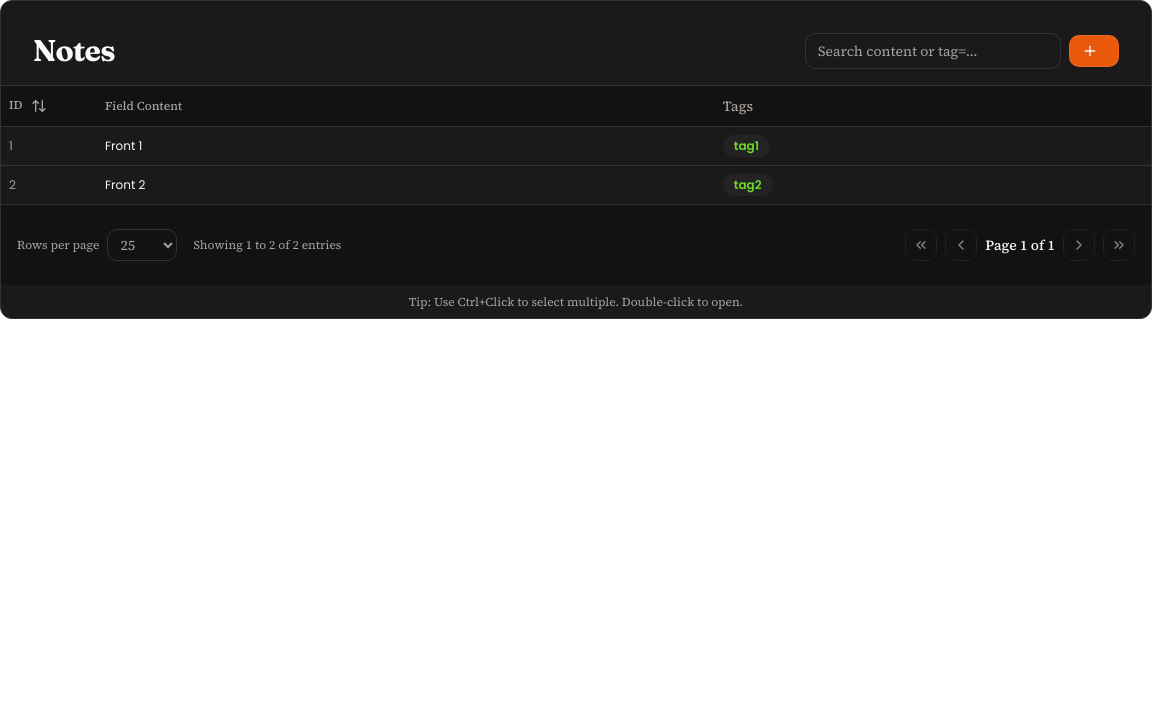
NoteCRUD Component › opens bulk move dialog when Move to Deck is clicked
Expected: the text "Front 1" is shown, [105, 138, 142, 154]
Select a note
Click the text "Front 1".
click(576, 146)  # box [1, 126, 1151, 165]
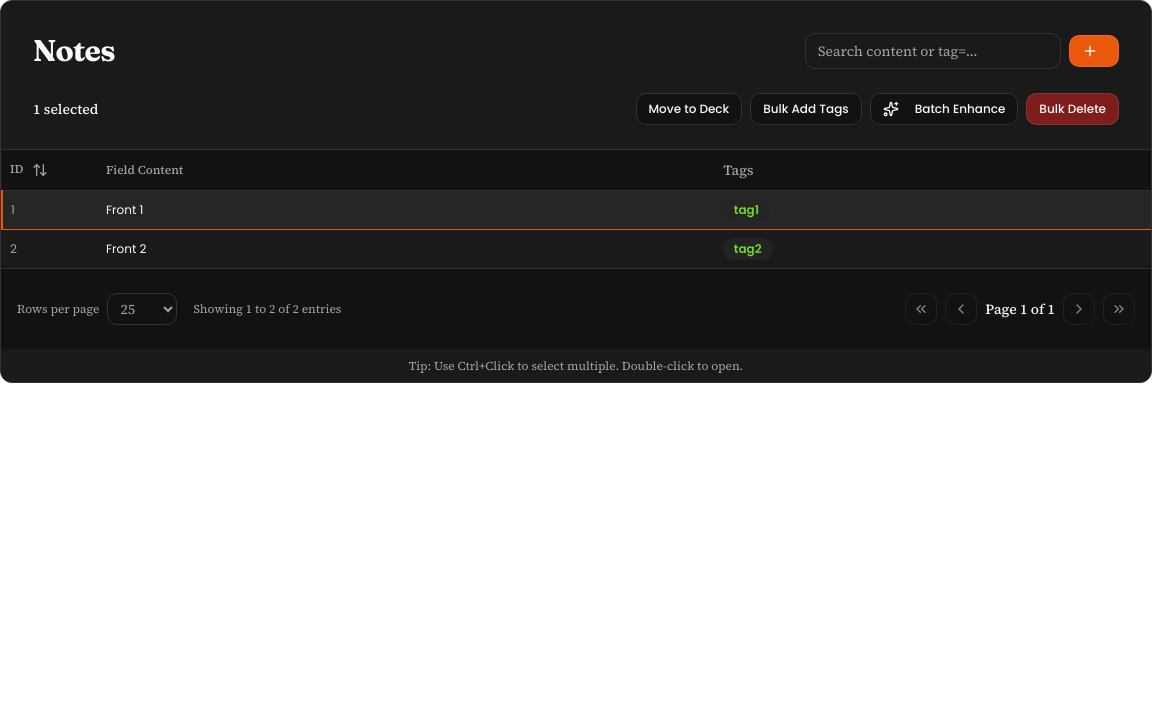
Click Move to Deck
Click the button "Move to Deck".
click(689, 109)  # box [636, 93, 742, 125]
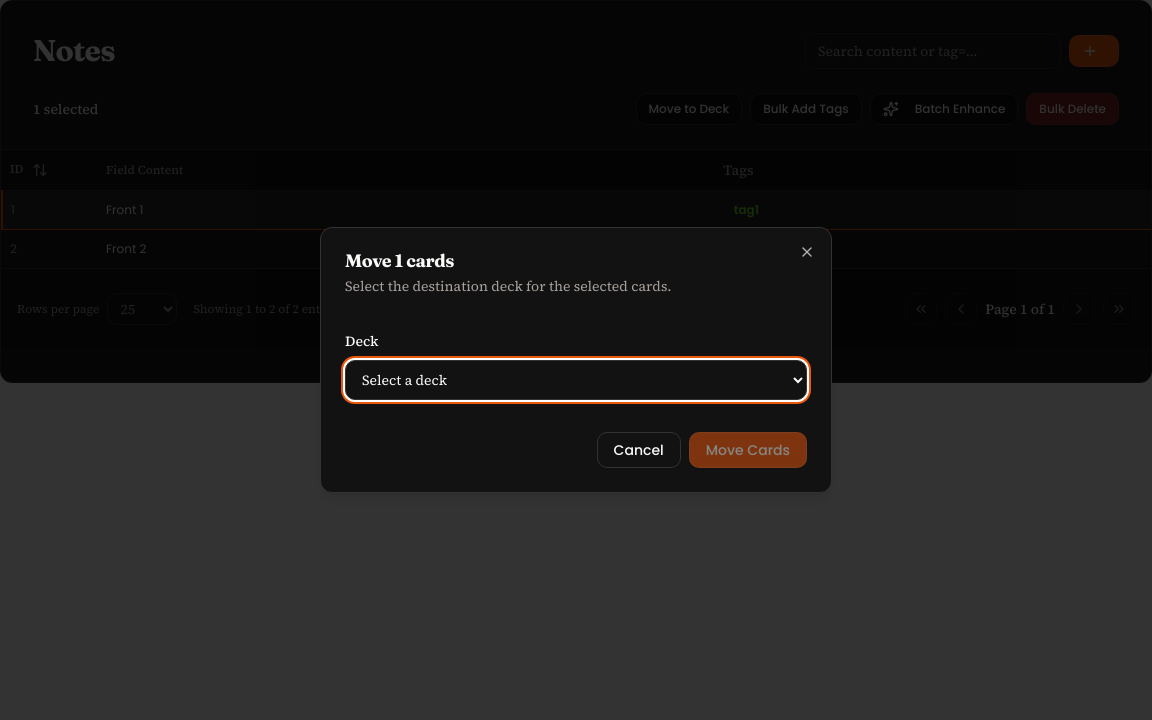
Now the dialog is shown, box [320, 227, 832, 493]
